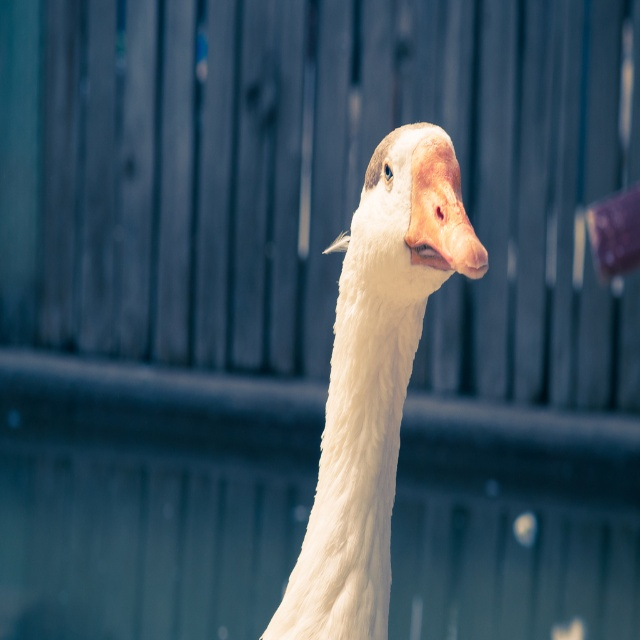Goose: (248, 113, 499, 640)
